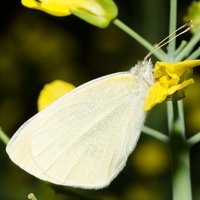insect: (6, 60, 199, 188)
